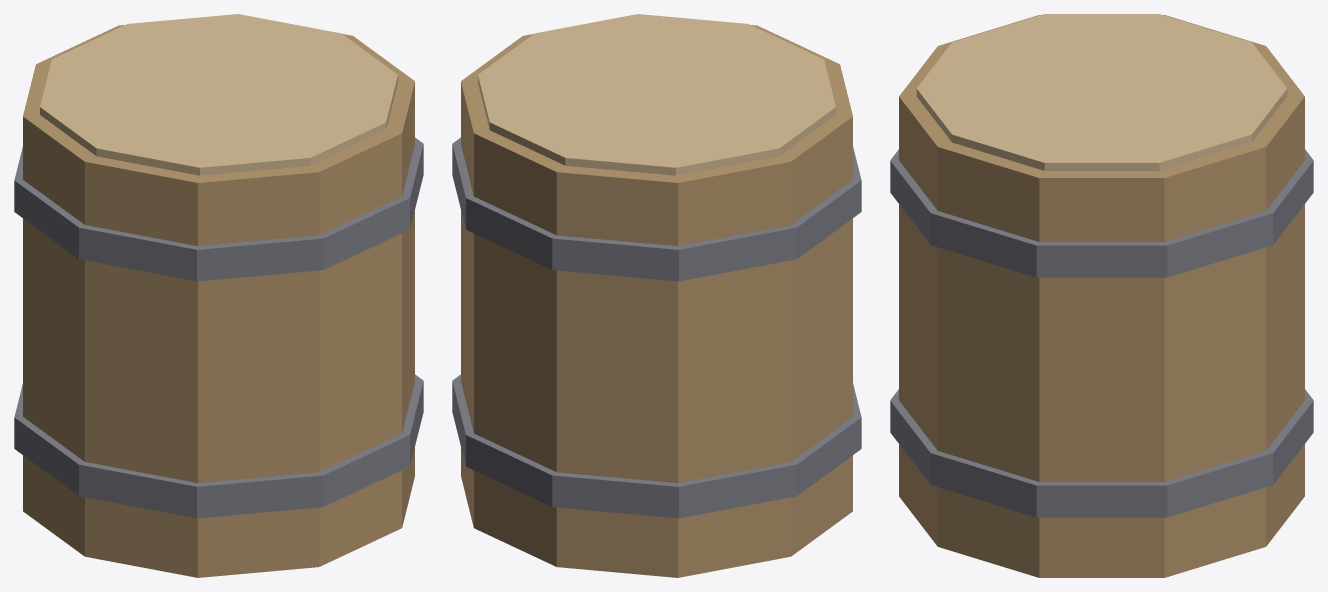
Rendered from Barrel.glb.
3 views of the same model, side by side, from view 1: azimuth 30°, elevation 25°; view 2: azimuth 150°, elevation 25°; view 3: azimuth 270°, elevation 25° (orthographic).
Parts seen in each view (by area): view 1: Barrel_Body, Barrel_Top, Barrel_Band, Barrel_Band.001; view 2: Barrel_Body, Barrel_Top, Barrel_Band, Barrel_Band.001; view 3: Barrel_Body, Barrel_Top, Barrel_Band.001, Barrel_Band.
Part boxes in pixels (<box>): Barrel_Body: <box>23,25,414,577</box>; Barrel_Top: <box>40,14,397,175</box>; Barrel_Band: <box>14,374,423,518</box>; Barrel_Band.001: <box>14,137,423,281</box>; Barrel_Body: <box>461,25,852,577</box>; Barrel_Top: <box>478,14,835,175</box>; Barrel_Band: <box>452,374,861,518</box>; Barrel_Band.001: <box>452,137,861,281</box>; Barrel_Body: <box>899,15,1304,577</box>; Barrel_Top: <box>916,14,1287,170</box>; Barrel_Band.001: <box>890,149,1313,277</box>; Barrel_Band: <box>890,389,1313,517</box>.
Bounding box in the file's own units: 0.913 × 1.02 × 0.96.
